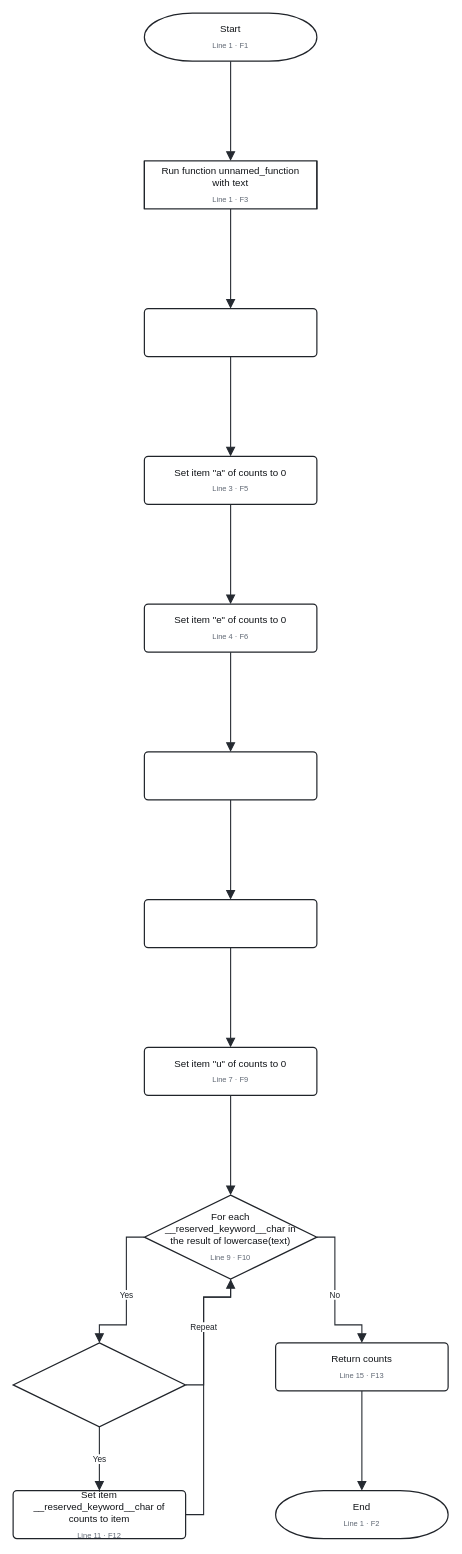
This 462x1554 diagram has some shape labels left out. The shapes that lost their labels are listed below. From the top down, each one's centre as x and y in pixels, then its label:
[230,332]: Set counts to an empty dictionary Line 2 · F4
[230,775]: Set item "i" of counts to 0 Line 5 · F7
[230,923]: Set item "o" of counts to 0 Line 6 · F8
[99,1384]: __reserved_keyword__char is contained in counts? Line 10 · F11
